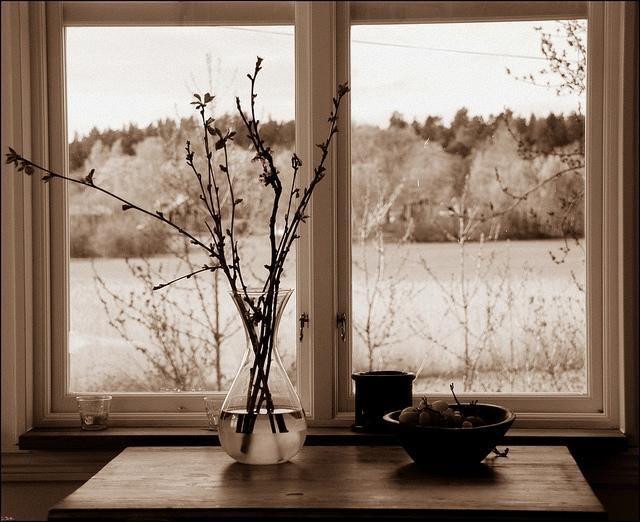grape: (398, 411, 418, 423), (418, 412, 431, 426), (466, 417, 486, 426), (431, 401, 449, 411), (428, 410, 438, 426), (440, 408, 456, 418), (462, 421, 472, 428)
